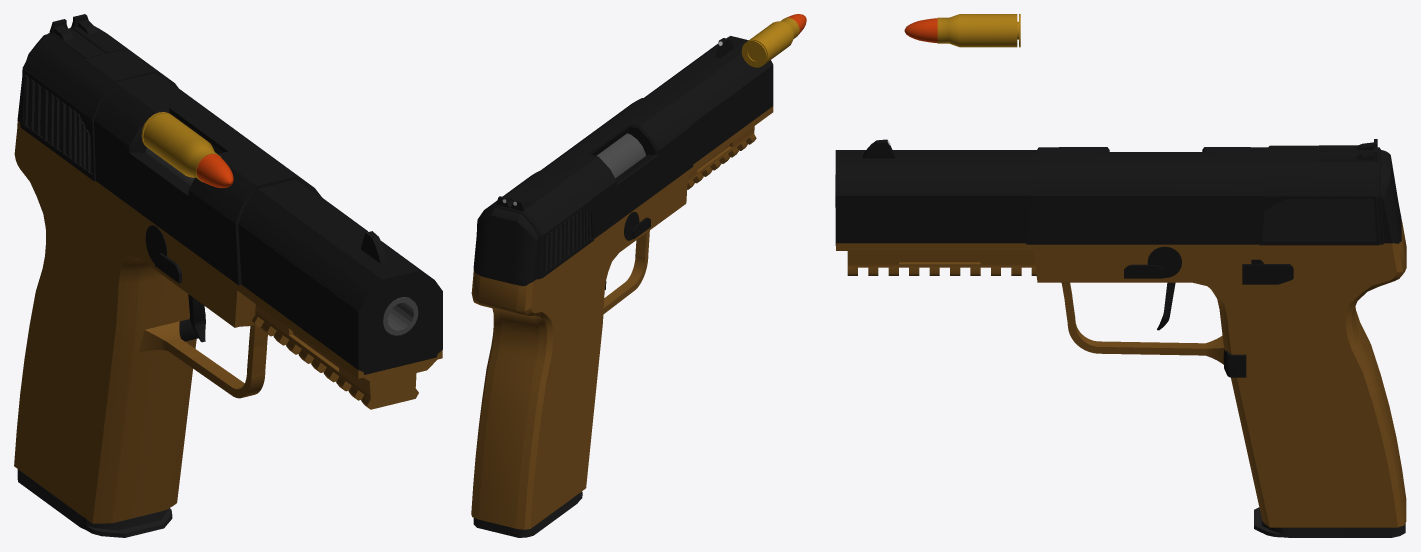
The model's file is Pistol.obj.
3 renders of one model, left to right at view 1: azimuth 30°, elevation 25°; view 2: azimuth 150°, elevation 25°; view 3: azimuth 270°, elevation 25°, orthographic. The views are drawn at different scales.
Parts seen in each view (by area): view 1: pCylinder2_Mesh.021, pCylinder6_Mesh.028, pCylinder8_Mesh.034, pCube13_Mesh.033, pCylinder9_Mesh.035; view 2: pCylinder2_Mesh.021, pCylinder6_Mesh.028, pCylinder8_Mesh.034, pCube13_Mesh.033; view 3: pCylinder2_Mesh.021, pCylinder6_Mesh.028, pCylinder8_Mesh.034, pCube13_Mesh.033.
Part boxes in pixels (x1,y1,x2,y2): pCylinder2_Mesh.021: [14, 121, 442, 523]; pCylinder6_Mesh.028: [17, 14, 442, 374]; pCylinder8_Mesh.034: [141, 112, 221, 182]; pCube13_Mesh.033: [17, 469, 172, 537]; pCylinder9_Mesh.035: [196, 154, 233, 188]; pCylinder2_Mesh.021: [471, 106, 773, 529]; pCylinder6_Mesh.028: [473, 36, 773, 285]; pCylinder8_Mesh.034: [741, 17, 799, 67]; pCube13_Mesh.033: [473, 491, 582, 537]; pCylinder2_Mesh.021: [835, 175, 1406, 527]; pCylinder6_Mesh.028: [835, 139, 1401, 245]; pCylinder8_Mesh.034: [937, 14, 1020, 47]; pCube13_Mesh.033: [1254, 507, 1405, 537].
Bounding box in the file's own units: 2.8 × 7.69 × 8.76.
